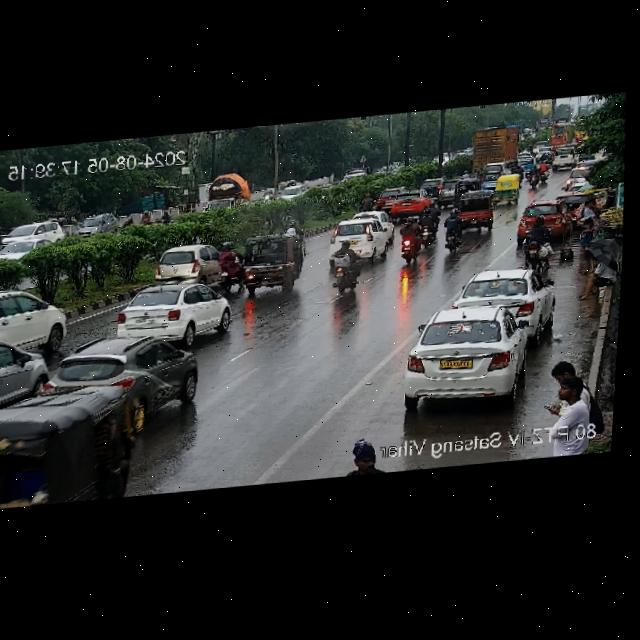bus: (544, 122, 572, 148)
car: (0, 381, 134, 511), (41, 328, 210, 412), (404, 305, 536, 409), (112, 277, 238, 345), (456, 264, 550, 332), (0, 281, 73, 354), (233, 230, 303, 297), (0, 333, 53, 409), (323, 210, 392, 267), (0, 216, 69, 262), (153, 240, 223, 285), (455, 189, 497, 225), (387, 191, 430, 216), (486, 174, 519, 205), (551, 145, 581, 170)
motorcycle: (322, 237, 372, 295), (520, 214, 557, 258), (217, 239, 249, 289), (399, 210, 424, 264), (416, 202, 438, 252), (440, 209, 466, 243), (217, 238, 236, 273), (527, 164, 551, 189), (523, 161, 537, 186), (535, 160, 551, 180), (520, 160, 532, 177)
person: (542, 347, 596, 420), (573, 254, 620, 300), (575, 216, 598, 277), (348, 435, 381, 474), (579, 200, 593, 219)
truck: (463, 120, 524, 175), (204, 173, 248, 213)
